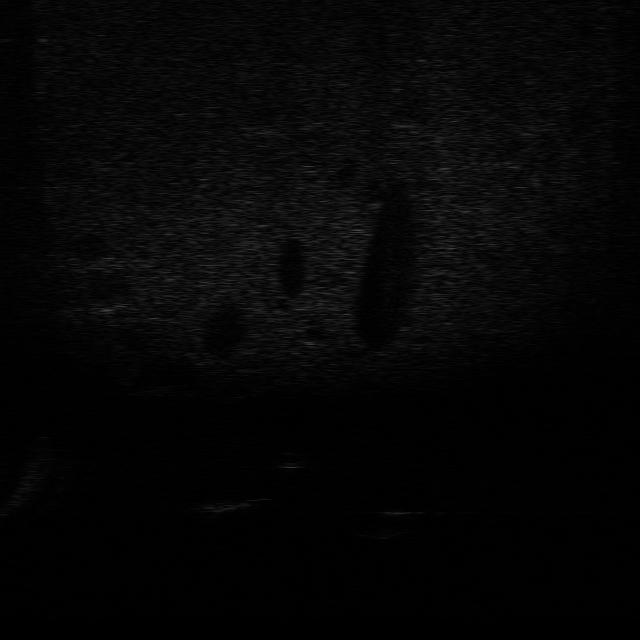ball: (268, 439, 312, 472)
square cage: (189, 488, 260, 522)
tyre: (351, 502, 421, 546)
